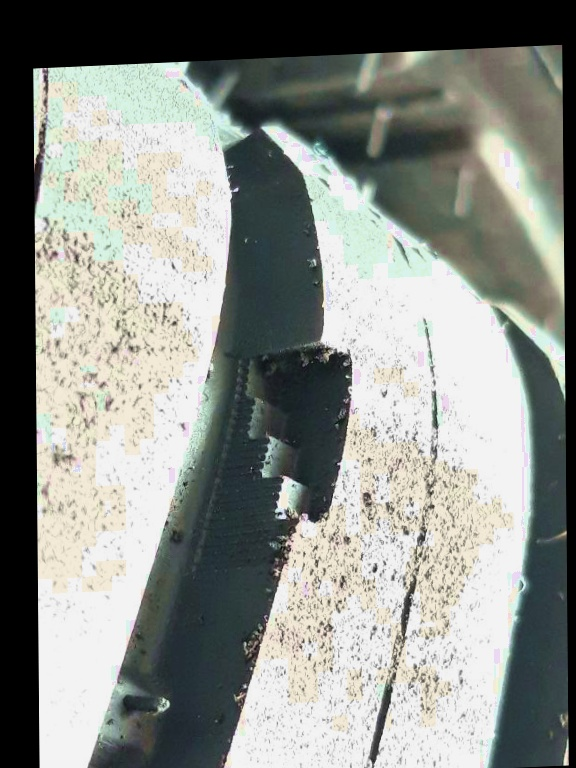temoin:95: (193, 324, 370, 582)
